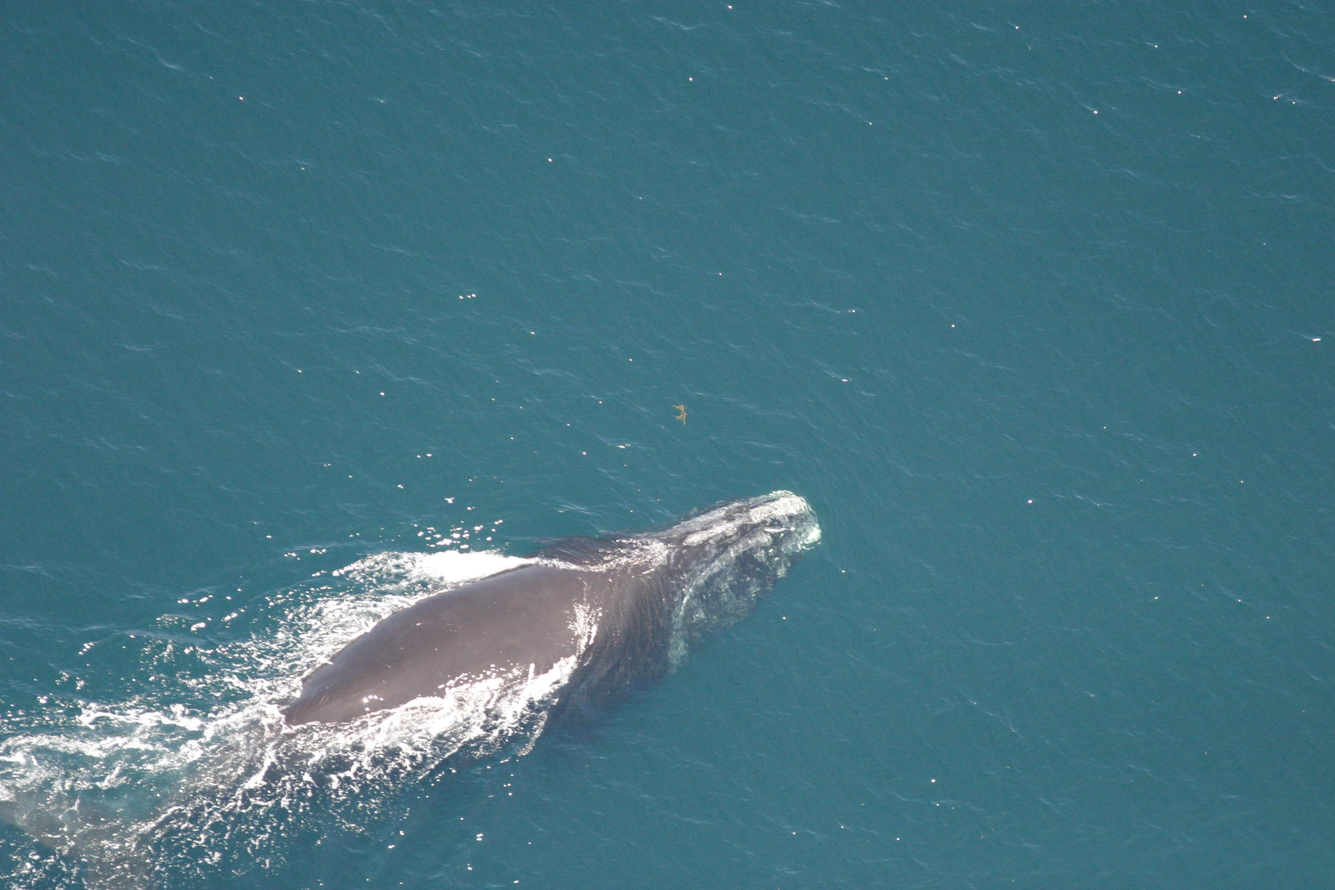whale: (0, 481, 829, 890)
